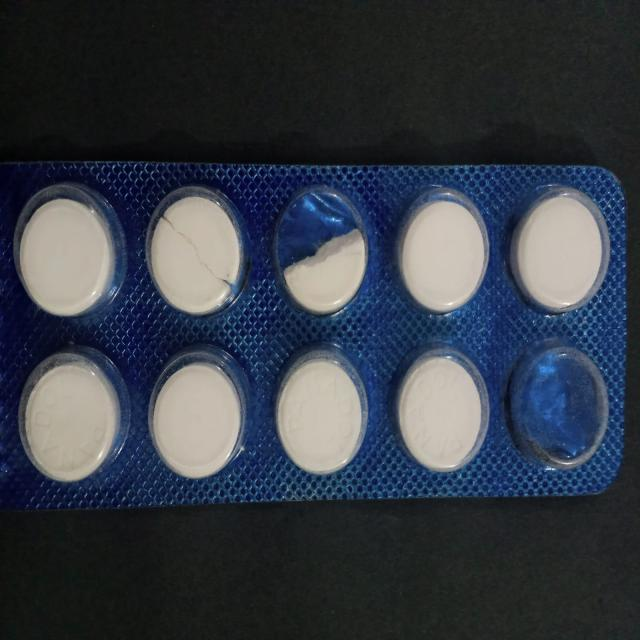defect: (142, 178, 256, 324), (268, 176, 375, 324), (503, 336, 612, 474)
